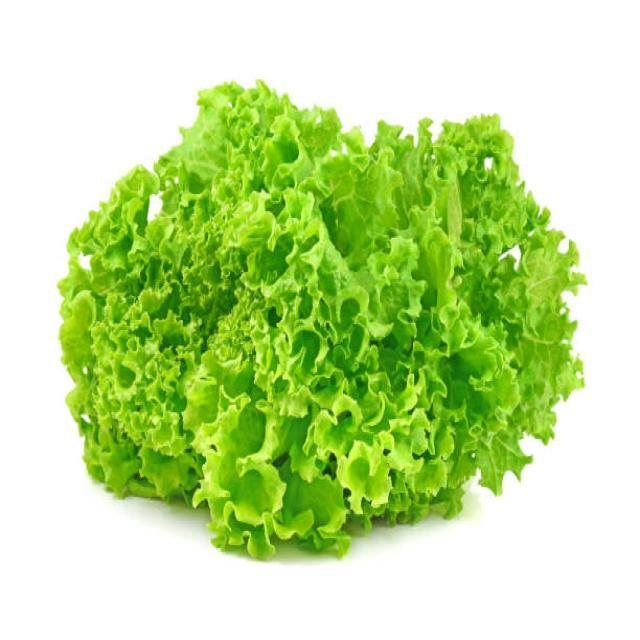Lettuce-Ready-to-Harvest: (60, 84, 584, 556)
